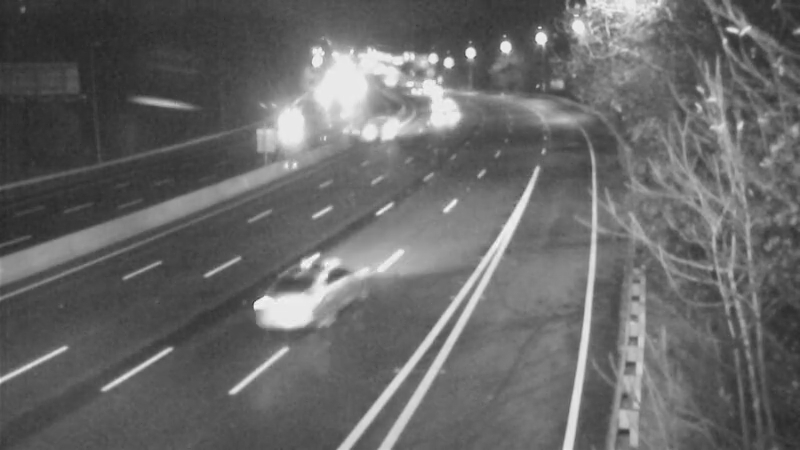vehicle: (218, 250, 328, 360), (413, 81, 463, 131), (417, 91, 467, 141), (357, 105, 407, 155), (259, 103, 309, 153)
